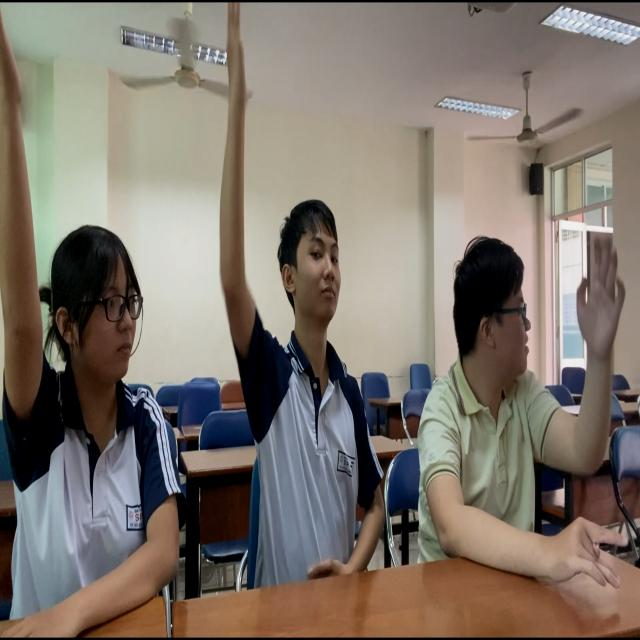raise_hand: (1, 1, 175, 637), (211, 1, 383, 591), (422, 224, 640, 608)
